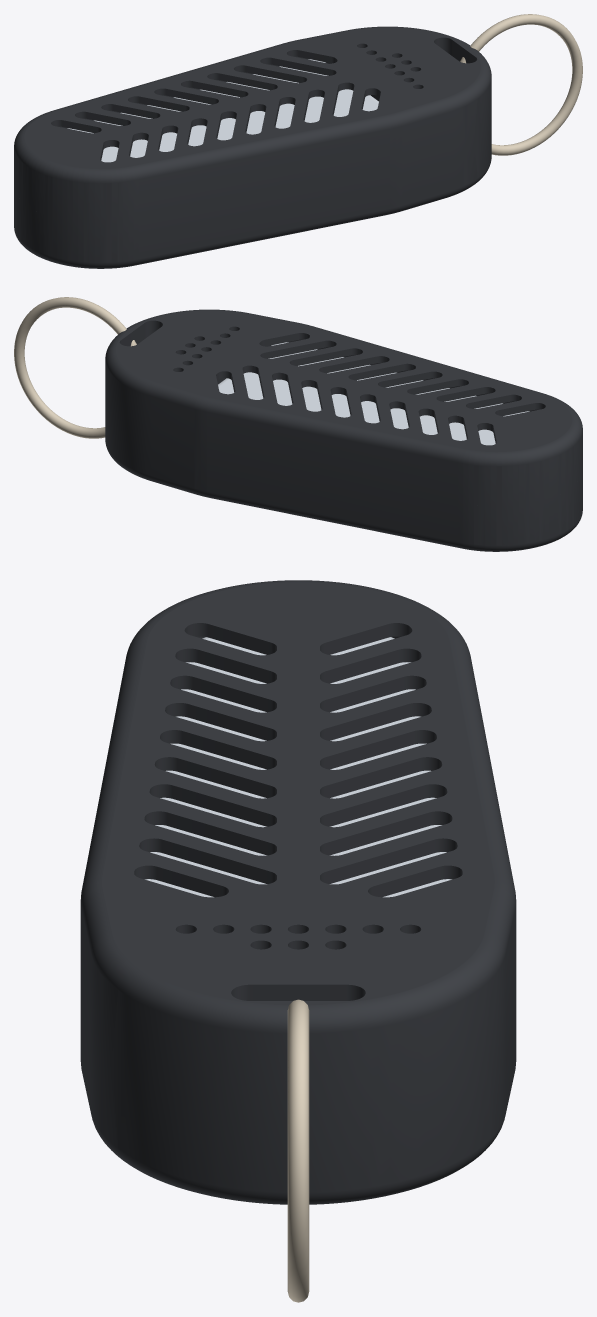
File: solefresh_v3_2_S_assembled.glb
3 renders of one model, top to bottom at view 1: azimuth 30°, elevation 25°; view 2: azimuth 150°, elevation 25°; view 3: azimuth 270°, elevation 25°, orthographic. The views are drawn at different scales.
Parts seen in each view (by area): view 1: shell_top, shell_bottom, silica_sachet, pull_cord; view 2: shell_top, shell_bottom, silica_sachet, pull_cord; view 3: shell_top, shell_bottom, pull_cord, silica_sachet.
Part boxes in pixels (x1,y1,x2,y2): shell_top: (14, 26, 491, 222); shell_bottom: (14, 62, 491, 268); silica_sachet: (67, 59, 378, 162); pull_cord: (460, 14, 582, 155); shell_top: (105, 309, 582, 505); shell_bottom: (105, 345, 582, 551); silica_sachet: (218, 342, 529, 445); pull_cord: (14, 297, 136, 438); shell_top: (80, 580, 516, 1112); shell_bottom: (80, 983, 516, 1204); pull_cord: (287, 999, 309, 1302); silica_sachet: (145, 637, 451, 897).
Bounding box in the file's own units: 0.1204 × 0.0284 × 0.0408.
